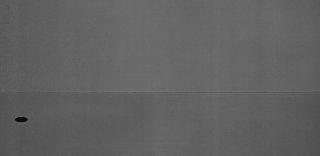punching hole: (14, 116, 30, 125)
welding line: (1, 86, 320, 98)
